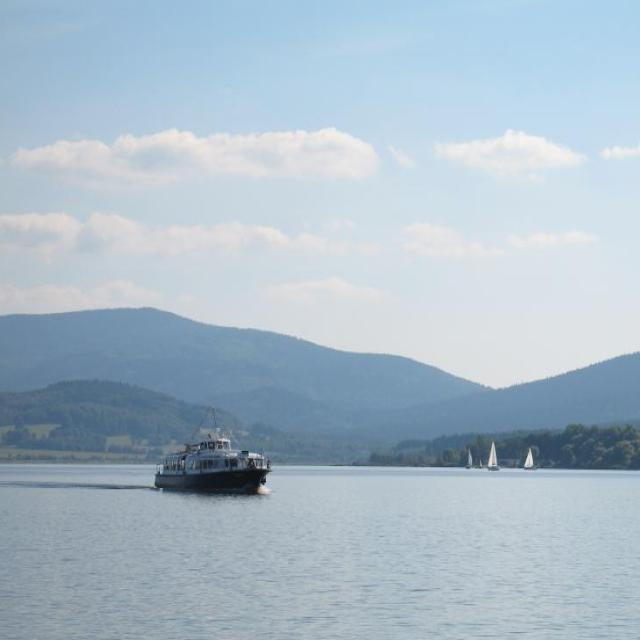passenger ship: (141, 406, 278, 502)
